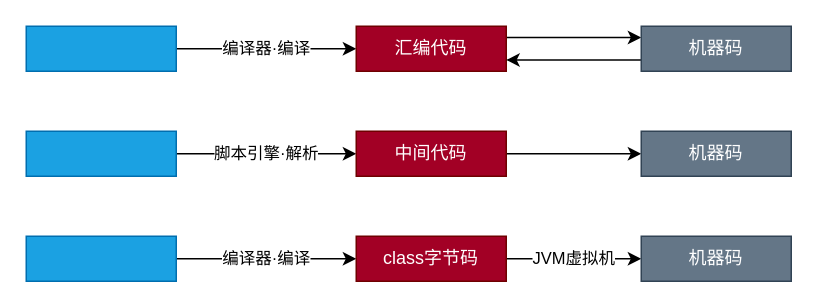
The diagram is 818 pixels wide and 308 high, and some of its shapes have lost their labels. Here are the shapes that lost their labels. From the top down, the centre of each, then its label:
At [100,48]: "C++".
At [100,153]: "JS/PHP/Python".
At [100,258]: "Java".
